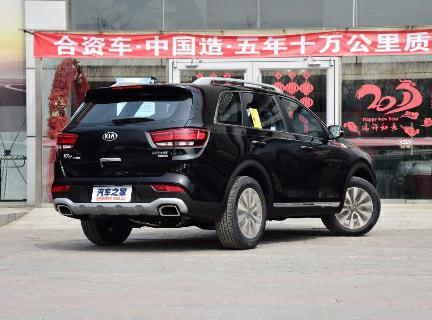起亚-KX7: (41, 71, 388, 256)
